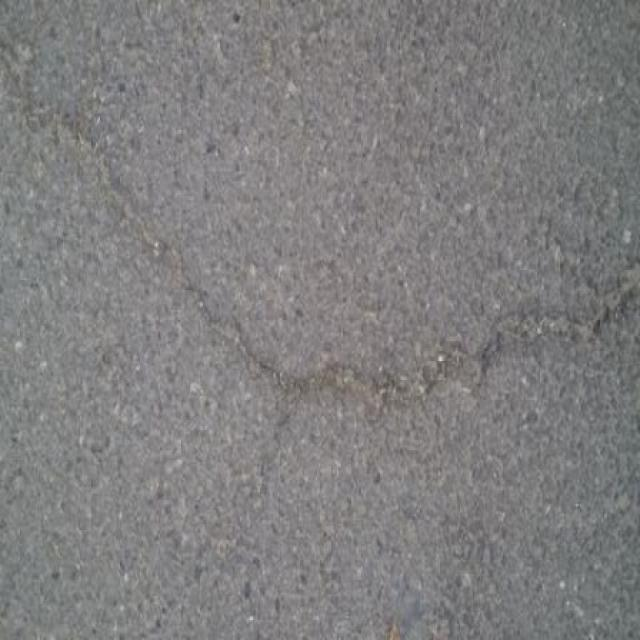multi-branched crack: (2, 26, 639, 434)
